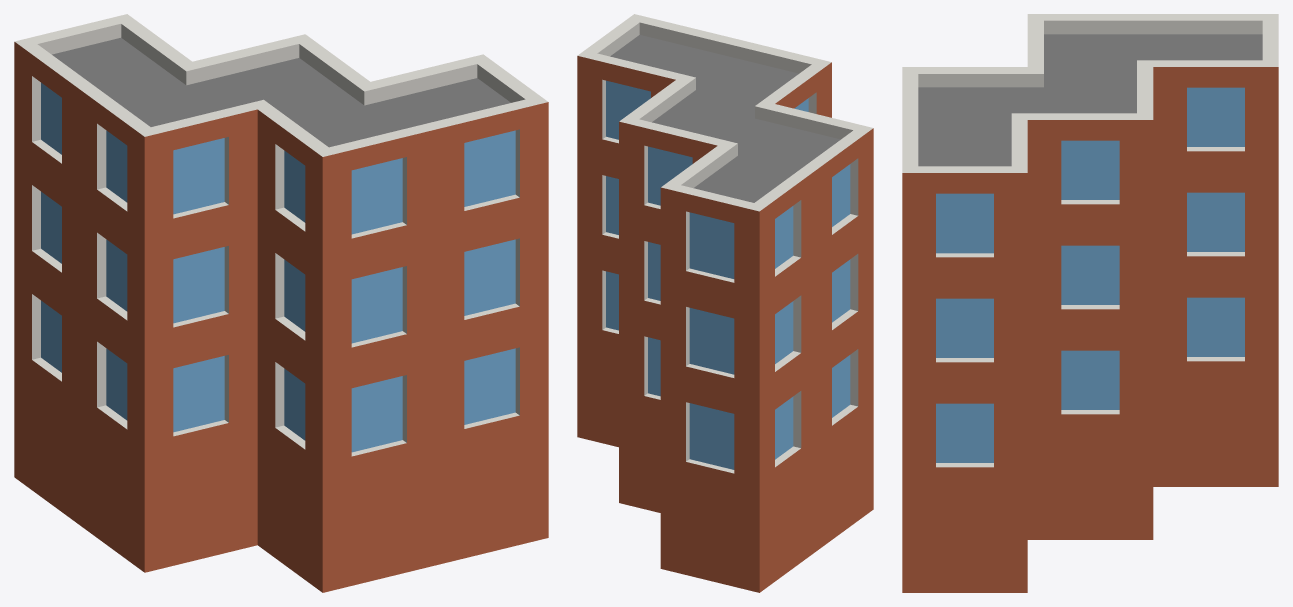
Rendered from Buidling2.fbx.
The picture shows the model from 3 angles, left to right: view 1: azimuth 30°, elevation 25°; view 2: azimuth 150°, elevation 25°; view 3: azimuth 270°, elevation 25°; orthographic projection. The views are drawn at different scales.
Visible parts, largest first — view 1: City.001; view 2: City.001; view 3: City.001.
Boxes of the visible parts, x1,y1,x2,y2 form: City.001: (14,14,548,592); City.001: (577,14,873,592); City.001: (902,14,1278,592).
Bounding box in the file's own units: 1332 × 1638 × 1332.
